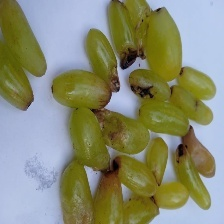grapes: (0, 13, 194, 199)
